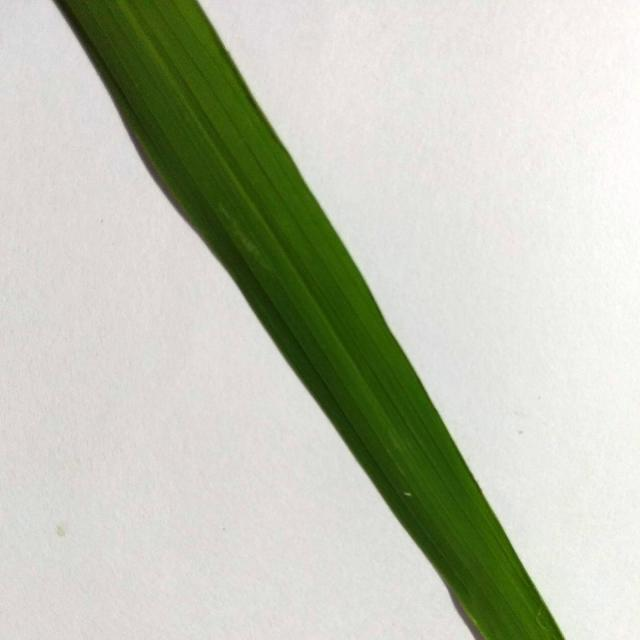healthy: (52, 1, 564, 640)
